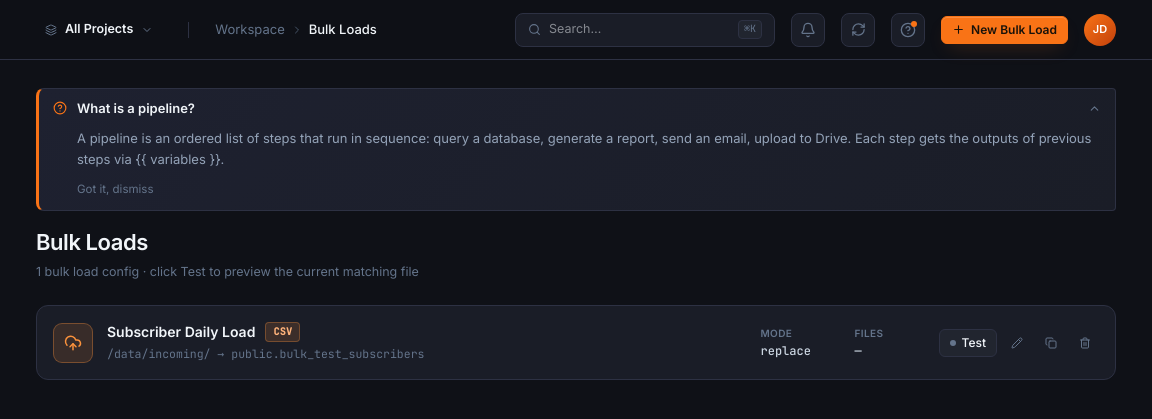
Test case: BulkLoads › shows a Verified badge when the Test button finds no warnings
The width and height of the screenshot is (1152, 419).
Expected: the text "Subscriber Daily Load" is shown, [107,322,255,342]
Click the button "Test" at coordinates (968, 343), box [938,329,997,357]
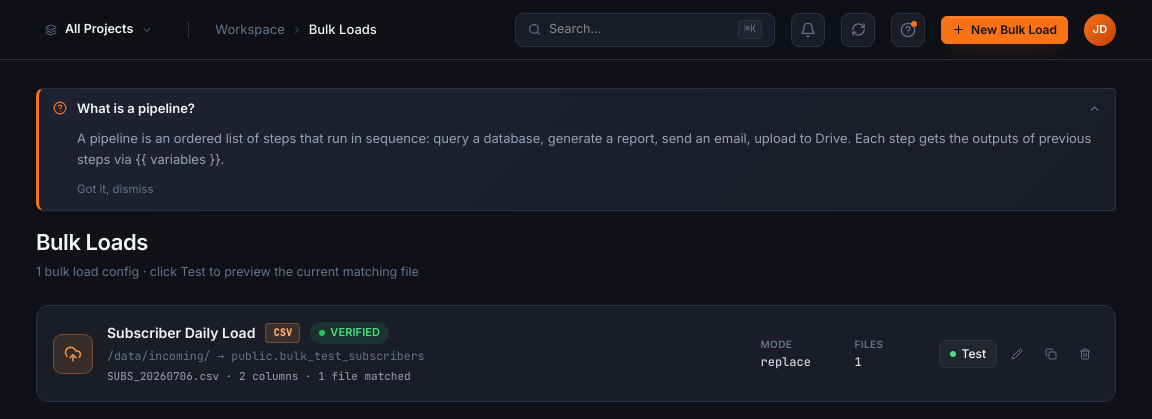
Result: the text "Verified" is shown at [310,322,389,344]
